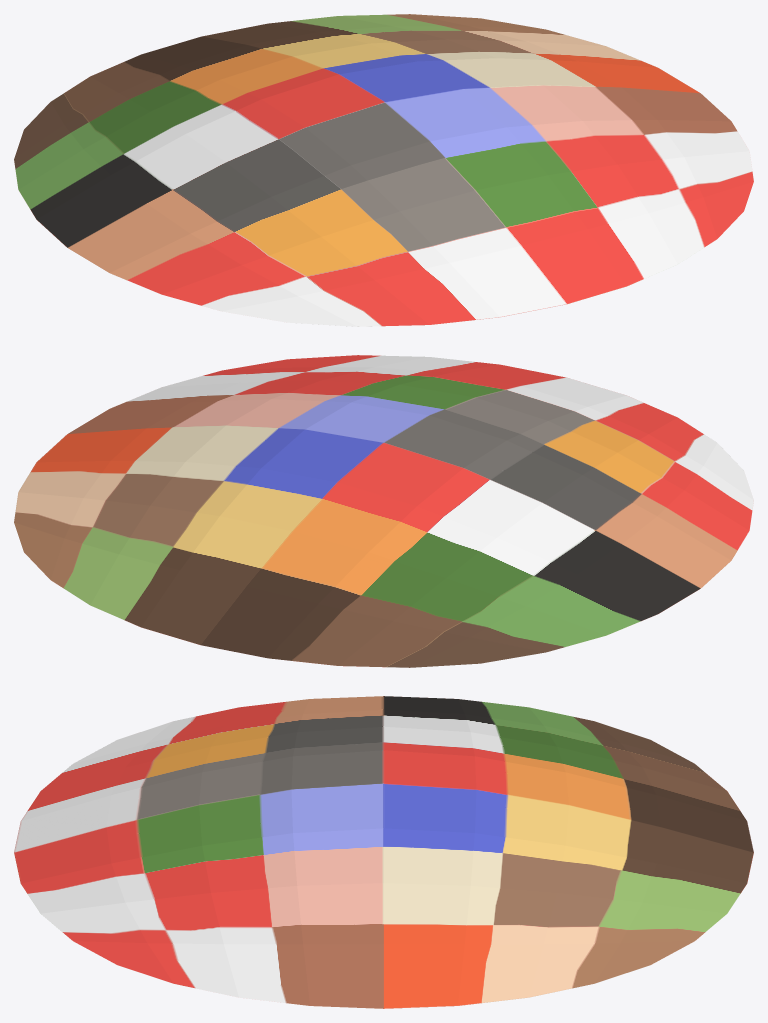
The model's file is tinygrass.fbx.
3 renders of one model, top to bottom at view 1: azimuth 30°, elevation 25°; view 2: azimuth 150°, elevation 25°; view 3: azimuth 270°, elevation 25°, orthographic.
Parts seen in each view (by area): view 1: BOSS.001; view 2: BOSS.001; view 3: BOSS.001.
Boxes of the visible parts, x1,y1,x2,y2 form: BOSS.001: [14, 14, 753, 326]; BOSS.001: [14, 355, 753, 667]; BOSS.001: [14, 696, 753, 1008].
Bounding box in the file's own units: 1.74 × 0.1797 × 1.74.
